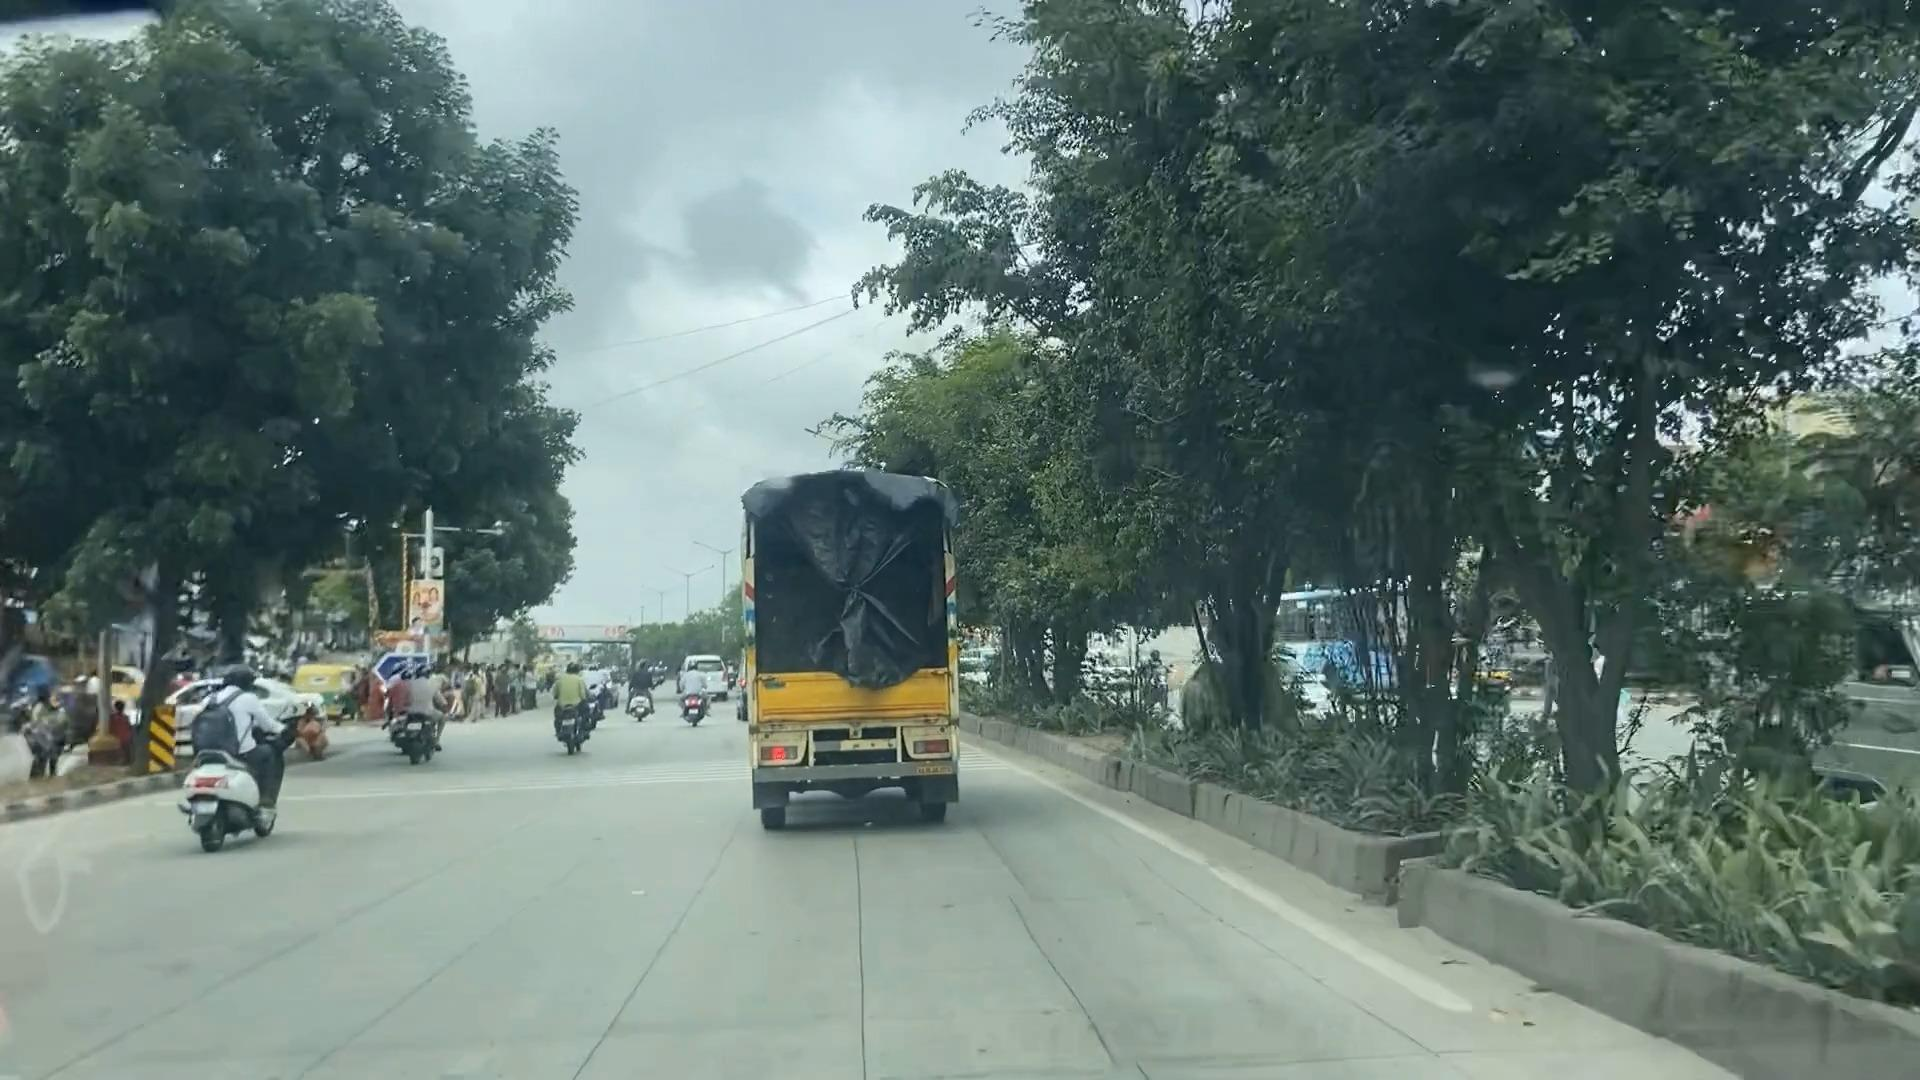HMV: (725, 393, 1025, 905)
